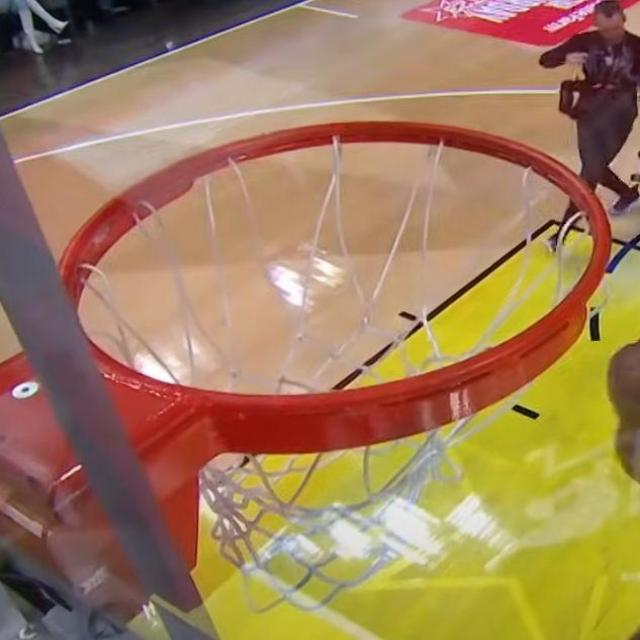hoop: (52, 140, 614, 562)
